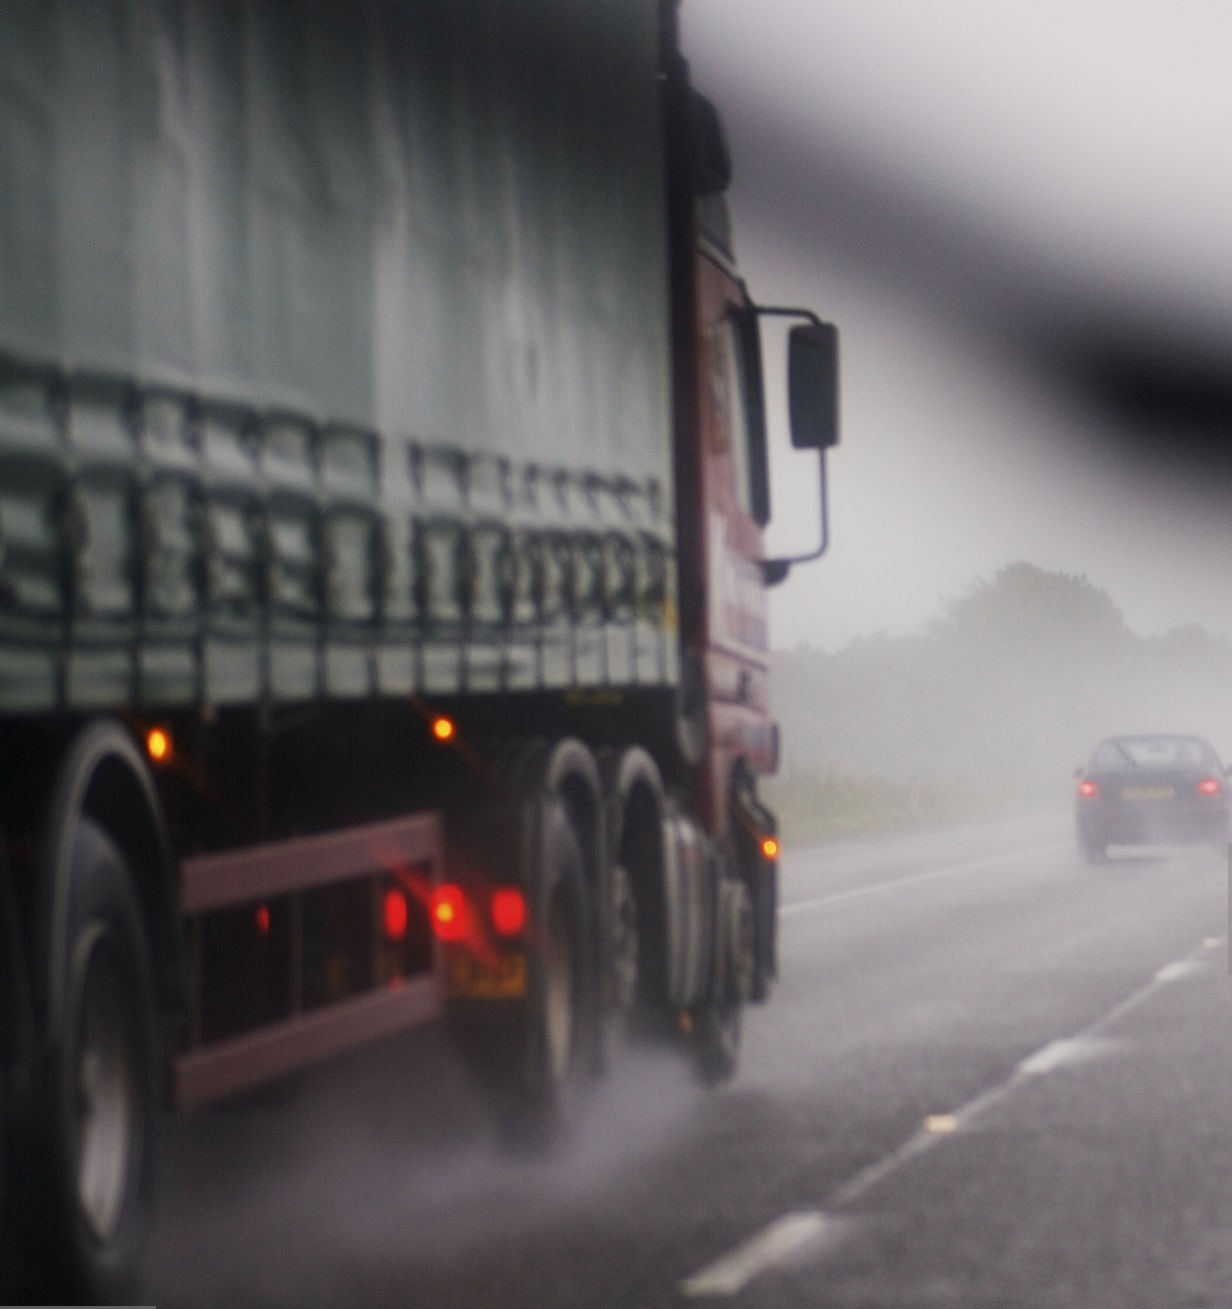bus: (3, 7, 811, 1282)
car: (1072, 733, 1229, 862)
truck: (3, 7, 811, 1282)
